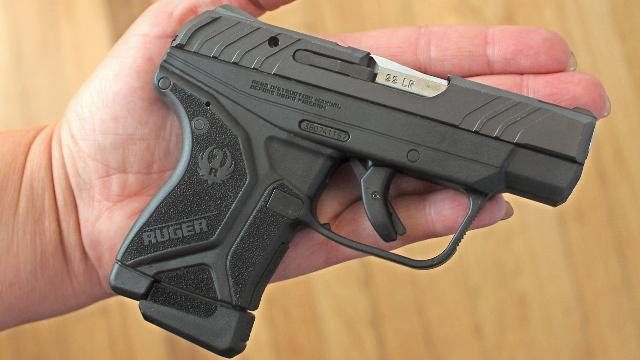handgun: (105, 0, 599, 360)
